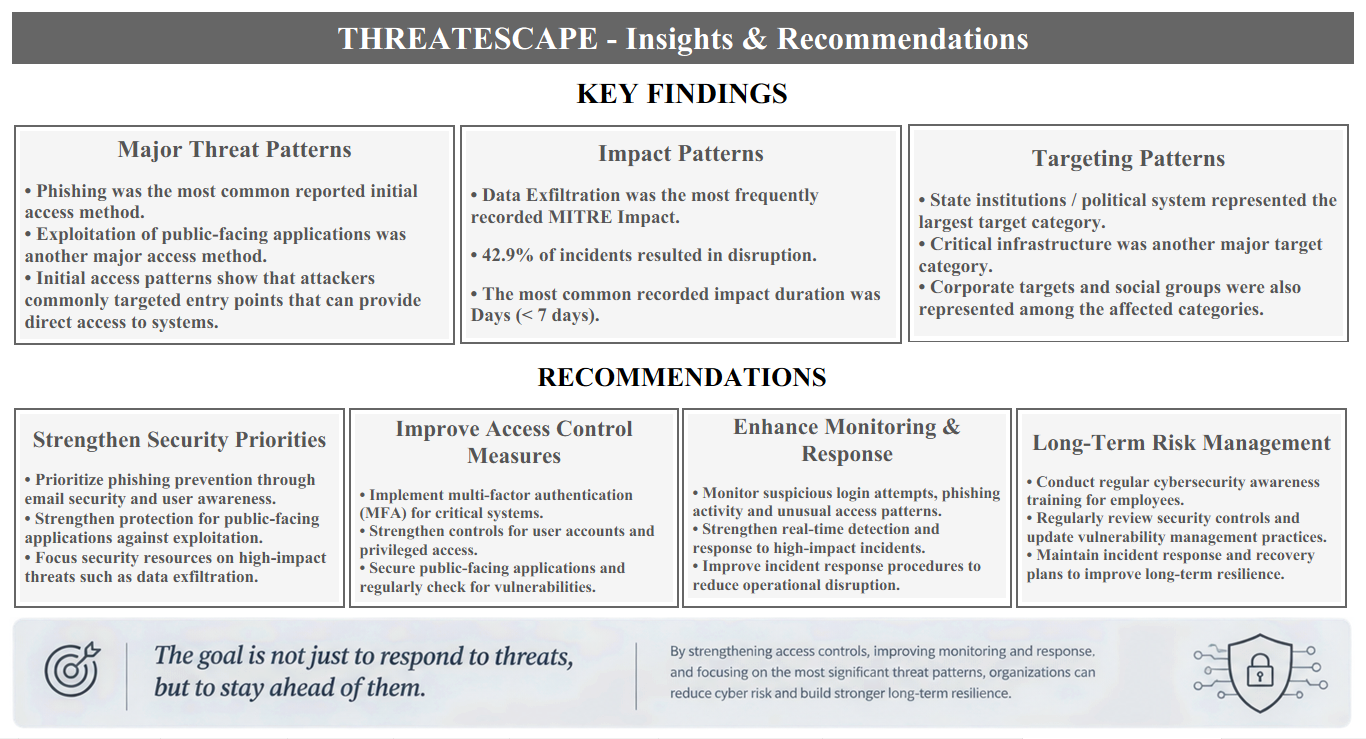

The page's visual inventory and layout, read from the dashboard file:
{"tool":"tableau","page":{"name":"Insights & Recommendations","canvas":[1000,1000],"units":"permille","ordinal":1},"visuals":[{"type":"title","box":[6.9,13.7,986.1,102.7]},{"type":"text","box":[9.5,68.5,979.2,114.7]},{"type":"text","box":[666.7,171.2,319.5,289.4]},{"type":"text","box":[12.1,172.9,319.5,291.1]},{"type":"text","box":[338.5,172.9,320.4,289.4]},{"type":"text","box":[9.5,472.6,979.2,75.3]},{"type":"text","box":[12.1,556.5,239,263.7]},{"type":"text","box":[257.1,556.5,238.1,263.7]},{"type":"text","box":[501.3,556.5,238.1,263.7]},{"type":"text","box":[745.5,556.5,239,263.7]},{"type":"image","param":"Image/Goal.png","box":[6.9,830.5,985.3,164.4]}]}

Visuals, with their boxes on the dashboard's canvas, which has no fixed pixel size, in thousandths of its width and height (x1, y1, x2, y2). These are canvas units, not pixel positions in the 1366x739 screenshot, which may show the page scaled, cropped or inside an application window:
title: left=7, top=14, right=993, bottom=116
text: left=10, top=68, right=989, bottom=183
text: left=667, top=171, right=986, bottom=461
text: left=12, top=173, right=332, bottom=464
text: left=338, top=173, right=659, bottom=462
text: left=10, top=473, right=989, bottom=548
text: left=12, top=556, right=251, bottom=820
text: left=257, top=556, right=495, bottom=820
text: left=501, top=556, right=739, bottom=820
text: left=746, top=556, right=984, bottom=820
image: left=7, top=830, right=992, bottom=995
